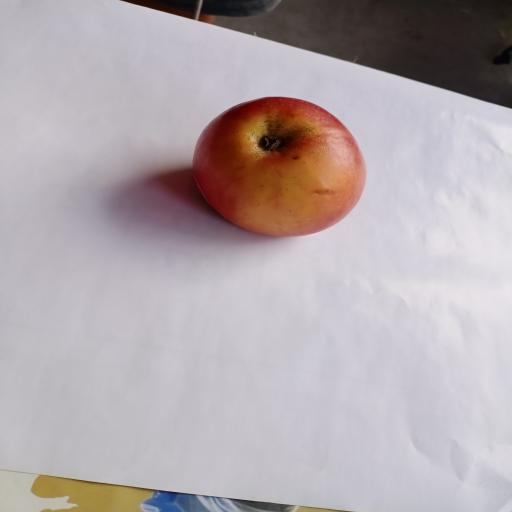apple-ripe: (190, 90, 370, 244)
